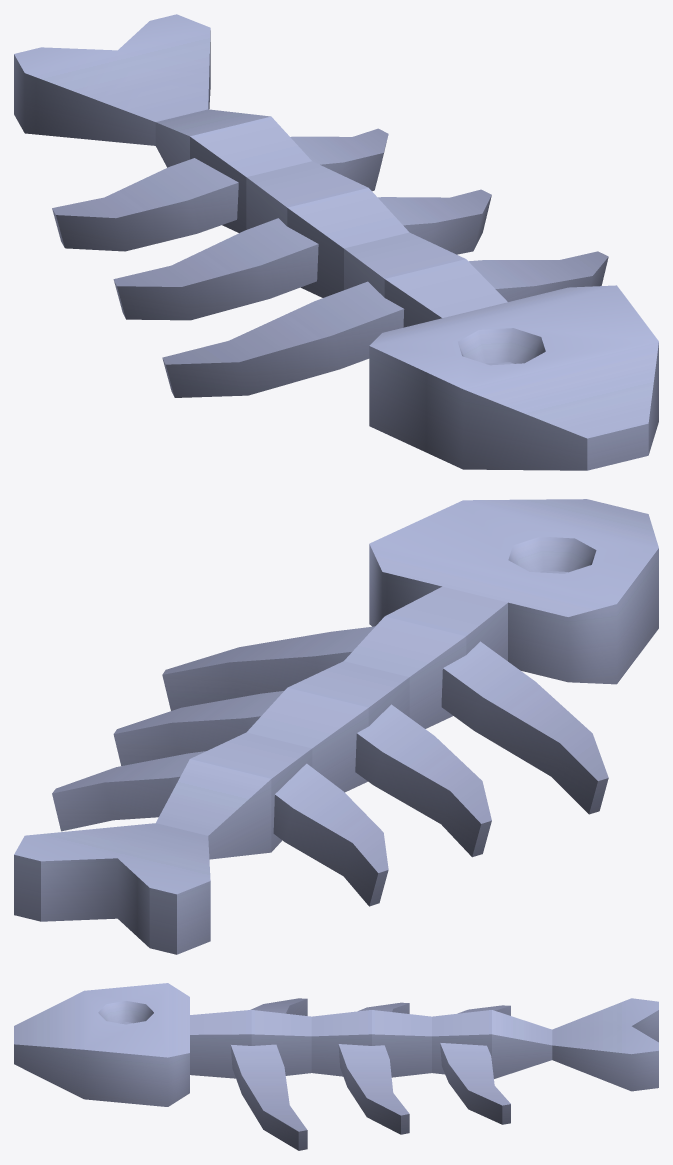
File: fish-bones.glb
The picture shows the model from 3 angles, top to bottom: view 1: azimuth 30°, elevation 25°; view 2: azimuth 150°, elevation 25°; view 3: azimuth 270°, elevation 25°; orthographic projection. The views are drawn at different scales.
Parts seen in each view (by area): view 1: fish-bones; view 2: fish-bones; view 3: fish-bones.
Part boxes in pixels (left/top/right/bottom): fish-bones: left=14, top=14, right=658, bottom=470; fish-bones: left=14, top=499, right=658, bottom=954; fish-bones: left=14, top=983, right=658, bottom=1150.
Bounding box in the file's own units: 0.3113 × 0.0726 × 0.6358.
Materials: 1 (1 with a texture image).
